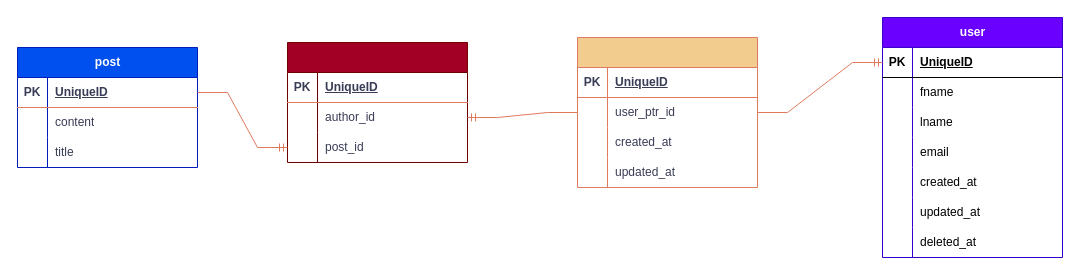
Some shapes in this 1080 by 275 pixel diagram are drawn without their labels. The box of each missing label's shape, as (x1, y1, x2, y2) in pixels:
author: (576, 36, 758, 188)
post_author: (286, 42, 468, 162)
